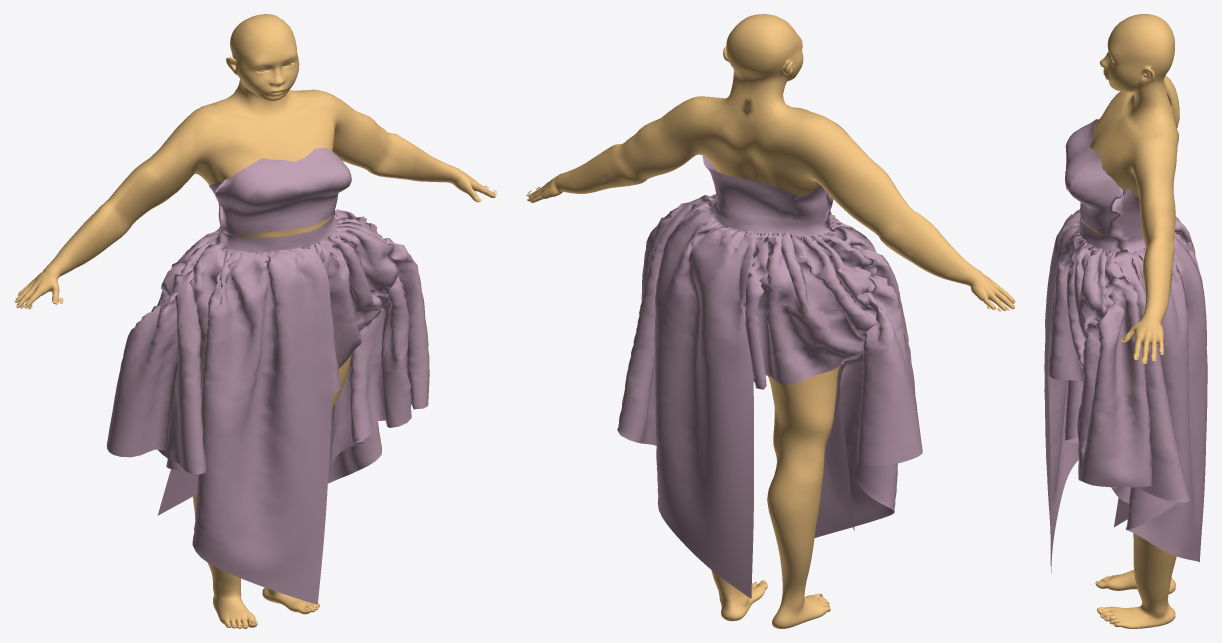
File: dress8.glb
3 renders of one model, left to right at view 1: azimuth 30°, elevation 25°; view 2: azimuth 150°, elevation 25°; view 3: azimuth 270°, elevation 25°, orthographic.
Visible parts, largest first — view 1: Project 1, Body; view 2: Project 1, Body; view 3: Project 1, Body.
Part boxes in pixels (x1,y1,x2,y2): Project 1: (106,147,429,604); Body: (14,14,495,628); Project 1: (617,156,922,598); Body: (527,14,1015,628); Project 1: (1044,119,1207,573); Body: (1086,14,1179,628).
Bounding box in the file's own units: 1.59 × 1.88 × 0.4668.
